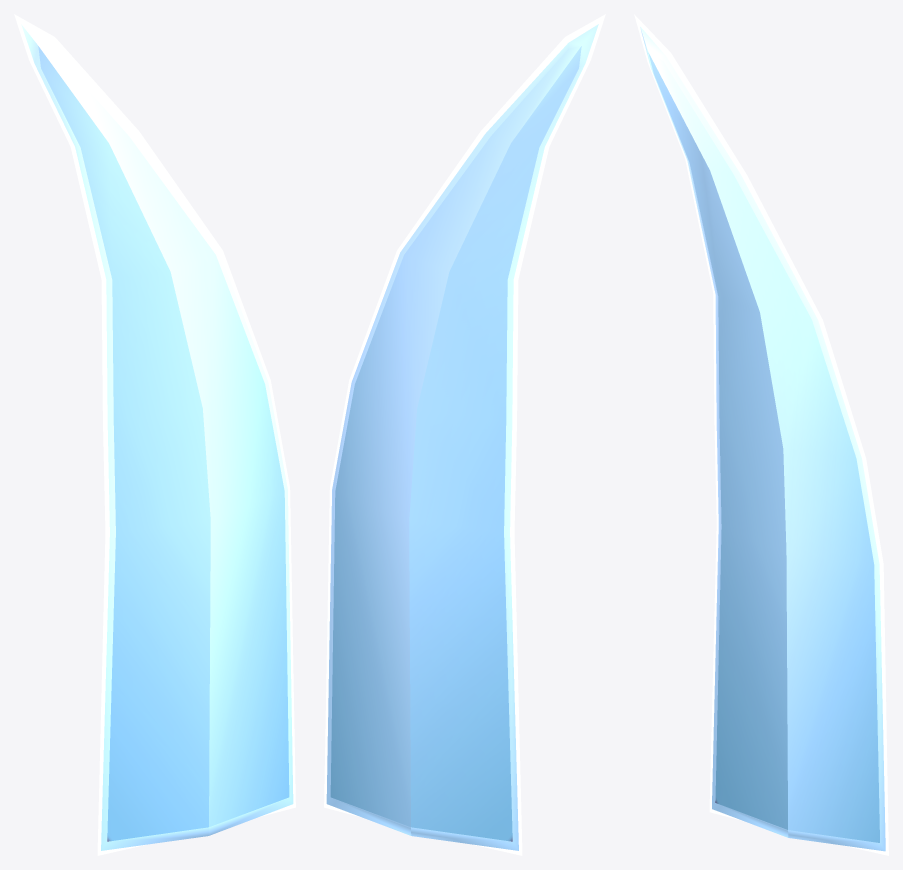
Rendered from steel_blade (11).glb.
The picture shows the model from 3 angles, left to right: view 1: azimuth 30°, elevation 25°; view 2: azimuth 150°, elevation 25°; view 3: azimuth 330°, elevation 25°; orthographic projection. The views are drawn at different scales.
Visible parts, largest first — view 1: steel_blade_steel.052; view 2: steel_blade_steel.052; view 3: steel_blade_steel.052.
Part boxes in pixels (bbox=[...]): steel_blade_steel.052: bbox=[14, 14, 295, 855]; steel_blade_steel.052: bbox=[324, 14, 605, 855]; steel_blade_steel.052: bbox=[634, 14, 888, 855].
Bounding box in the file's own units: 4.2 × 12.29 × 0.7262.
1 material, 1 textured.
